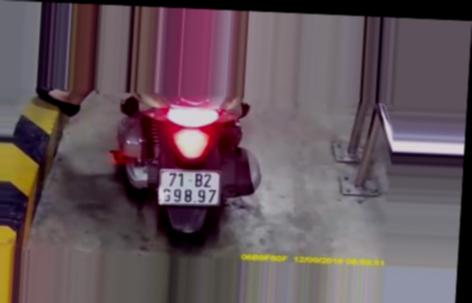License_Plate: (155, 166, 226, 211)
